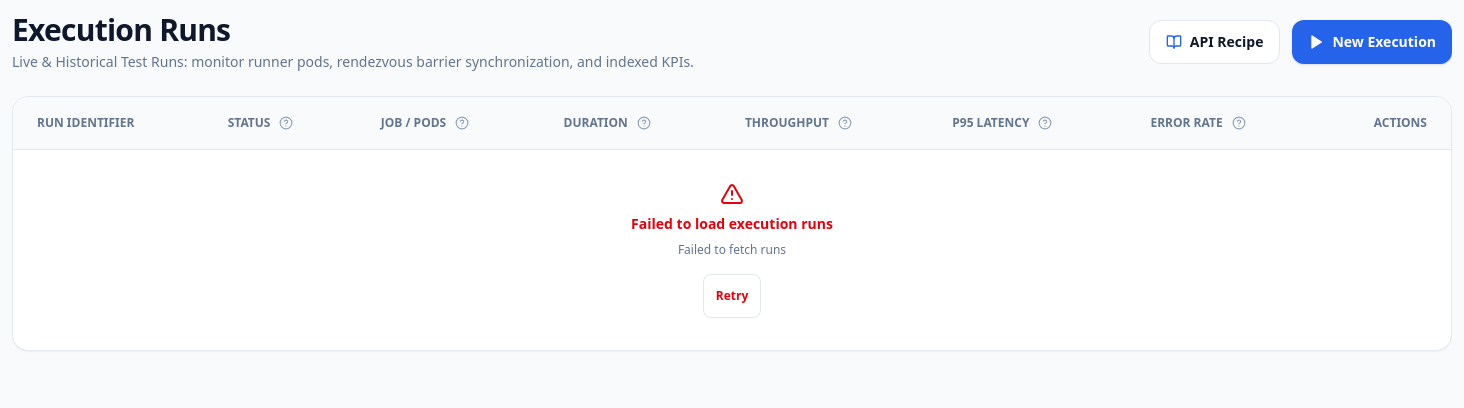
it: Ad-Hoc Load Test Execution Dispatcher & Live Monitor › RunsView Integration › renders error state with retry button when fetching runs fails
This screenshot has width=1464, height=408.
expect the text "Failed to load execution runs" is shown: met, box [631,214,833,234]
Click the button "Retry": (732, 296) [703,274,761,318]
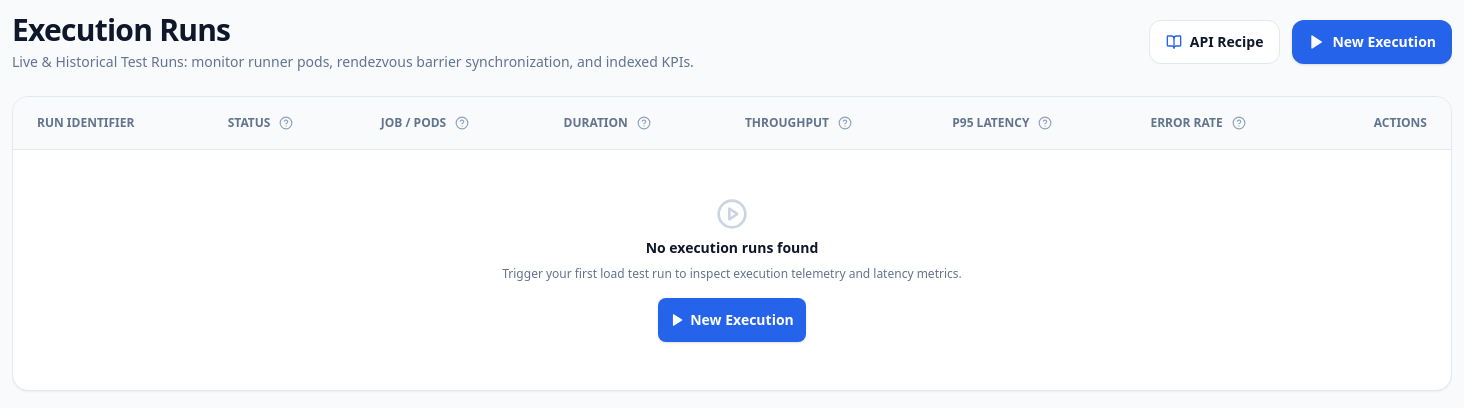
expect the text "No execution runs found" is shown: met, box [646,238,818,258]
